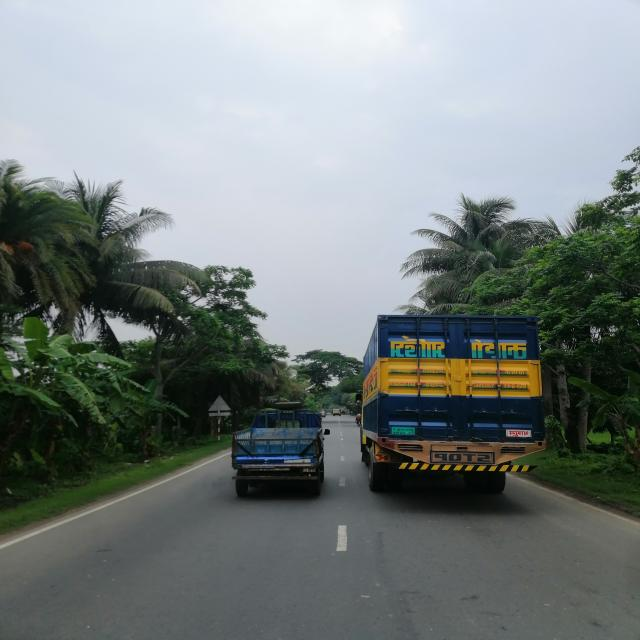Pick-up-van: (225, 405, 334, 498)
Truck: (353, 305, 554, 504)
